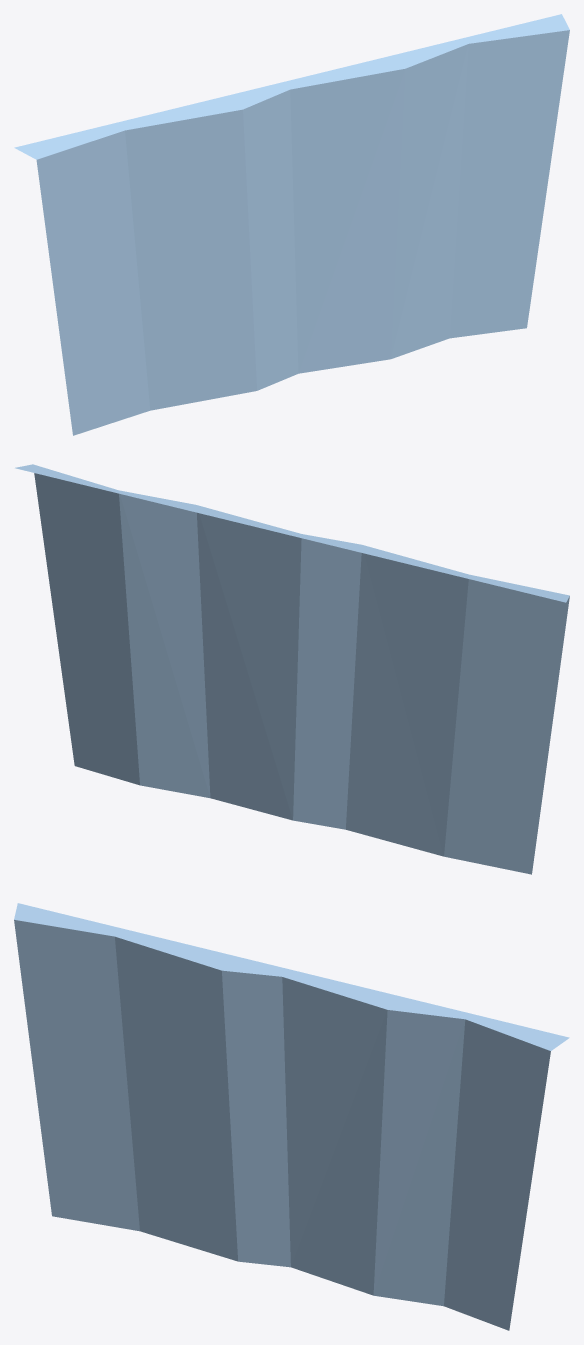
File: Waterfall_Angled_Small_01.fbx
The picture shows the model from 3 angles, top to bottom: view 1: azimuth 30°, elevation 25°; view 2: azimuth 150°, elevation 25°; view 3: azimuth 330°, elevation 25°; orthographic projection.
Visible parts, largest first — view 1: Model; view 2: Model; view 3: Model.
Boxes of the visible parts, x1,y1,x2,y2 form: Model: [14, 14, 569, 435]; Model: [15, 464, 569, 874]; Model: [14, 903, 569, 1330].
Size of the model in its own units: 1000 by 512 by 42.53.
